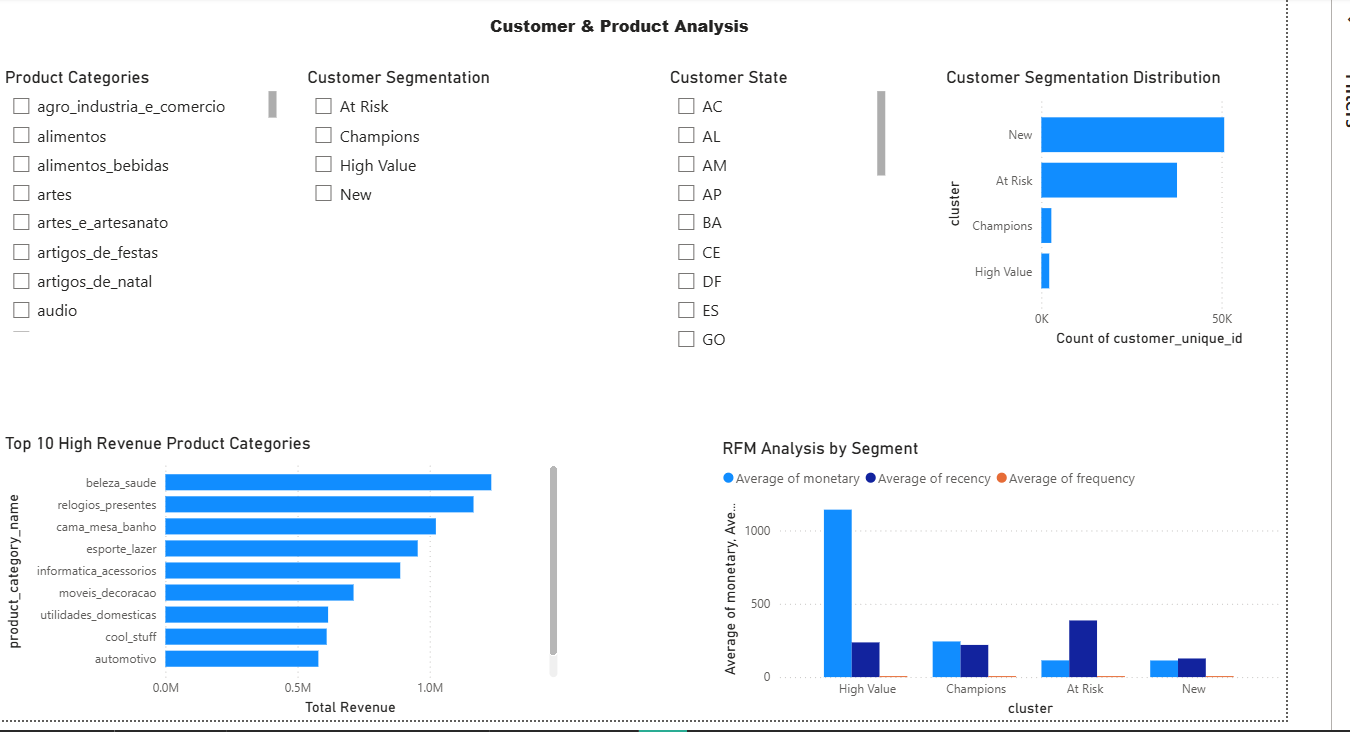

What the dashboard file says about the page in this screenshot:
{"tool":"powerbi","page":{"name":"Customer and product Analysis","canvas":[1280,720],"ordinal":1},"visuals":[{"type":"slicer","title":"Product Categories","fields":{"Values":["master_analysis_dataset.product_category_name"]},"box":[0,70,280,268.6],"z":0},{"type":"slicer","title":"Customer Segmentation","fields":{"Values":["rfm_table.cluster"]},"box":[301.4,70,220,157.1],"z":1000},{"type":"clusteredBarChart","title":"Top 10 High Revenue Product Categories","fields":{"Category":["master_analysis_dataset.product_category_name"],"Y":["master_analysis_dataset.Total Revenue"]},"box":[0,434.3,560,285.7],"z":2000},{"type":"slicer","title":"Customer State","fields":{"Values":["master_analysis_dataset.customer_state"]},"box":[661.4,70,224.3,285.7],"z":2001},{"type":"clusteredBarChart","title":"Customer Segmentation Distribution","fields":{"Category":["rfm_table.cluster"],"Y":["CountNonNull(rfm_table.customer_unique_id)"]},"box":[937.1,70,330,282.9],"z":2002},{"type":"clusteredColumnChart","title":"RFM Analysis by Segment","fields":{"Category":["rfm_table.cluster"],"Y":["Avg(rfm_table.monetary)","Avg(rfm_table.recency)","Avg(rfm_table.frequency)"]},"box":[714.3,438.6,565.7,281.4],"z":2003},{"type":"textbox","box":[347.1,12.9,538.6,38.6],"z":2004}]}

Visuals, with their boxes on the page's 1280x720 design canvas (x1, y1, x2, y2). These are canvas units, not pixel positions in the 1350x732 screenshot, which may show the page scaled, cropped or inside an application window:
"Product Categories" slicer: <region>0, 70, 280, 339</region>
"Customer Segmentation" slicer: <region>301, 70, 521, 227</region>
"Top 10 High Revenue Product Categories" clusteredBarChart: <region>0, 434, 560, 720</region>
"Customer State" slicer: <region>661, 70, 886, 356</region>
"Customer Segmentation Distribution" clusteredBarChart: <region>937, 70, 1267, 353</region>
"RFM Analysis by Segment" clusteredColumnChart: <region>714, 439, 1280, 720</region>
textbox: <region>347, 13, 886, 52</region>
